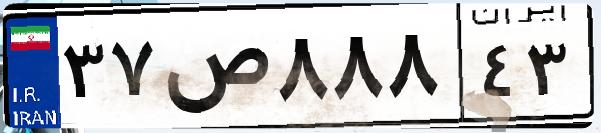3: (57, 26, 110, 100), (525, 38, 570, 115)
4: (475, 38, 525, 113)
7: (110, 28, 158, 98)
8: (270, 28, 330, 110), (385, 28, 445, 110), (330, 28, 385, 110)
ص: (158, 20, 270, 120)
